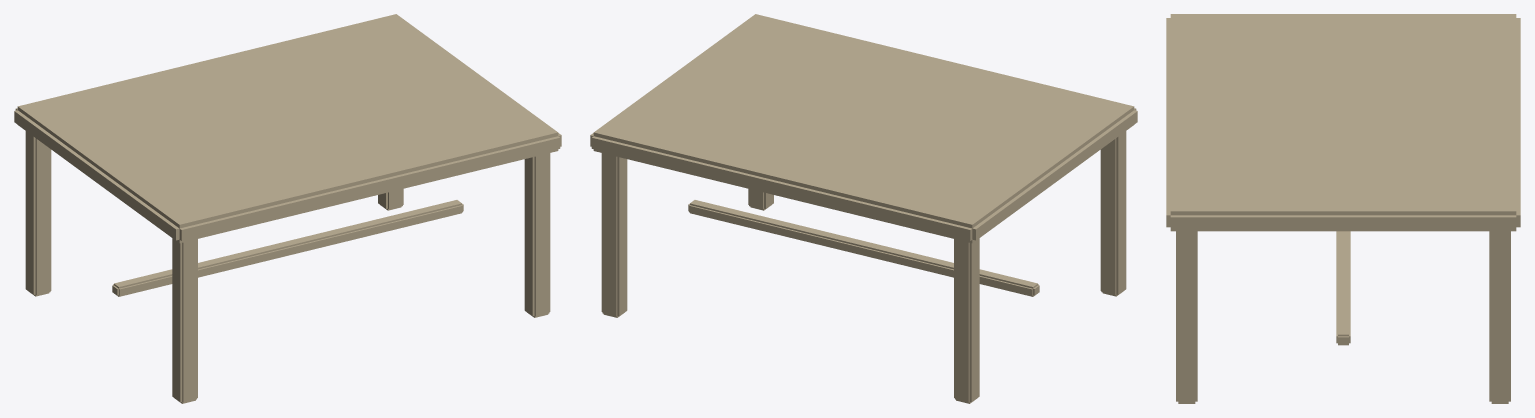
Rendered from boreal_table_v0.glb.
The picture shows the model from 3 angles, left to right: view 1: azimuth 30°, elevation 25°; view 2: azimuth 150°, elevation 25°; view 3: azimuth 270°, elevation 25°; orthographic projection. The views are drawn at different scales.
Parts seen in each view (by area): view 1: boreal_table_v0; view 2: boreal_table_v0; view 3: boreal_table_v0.
Part boxes in pixels (x1=…): boreal_table_v0: x1=14, y1=14, x2=561, y2=403; boreal_table_v0: x1=590, y1=14, x2=1137, y2=403; boreal_table_v0: x1=1166, y1=14, x2=1520, y2=403.
Size of the model in its own units: 1.96 by 0.89 by 1.46.
